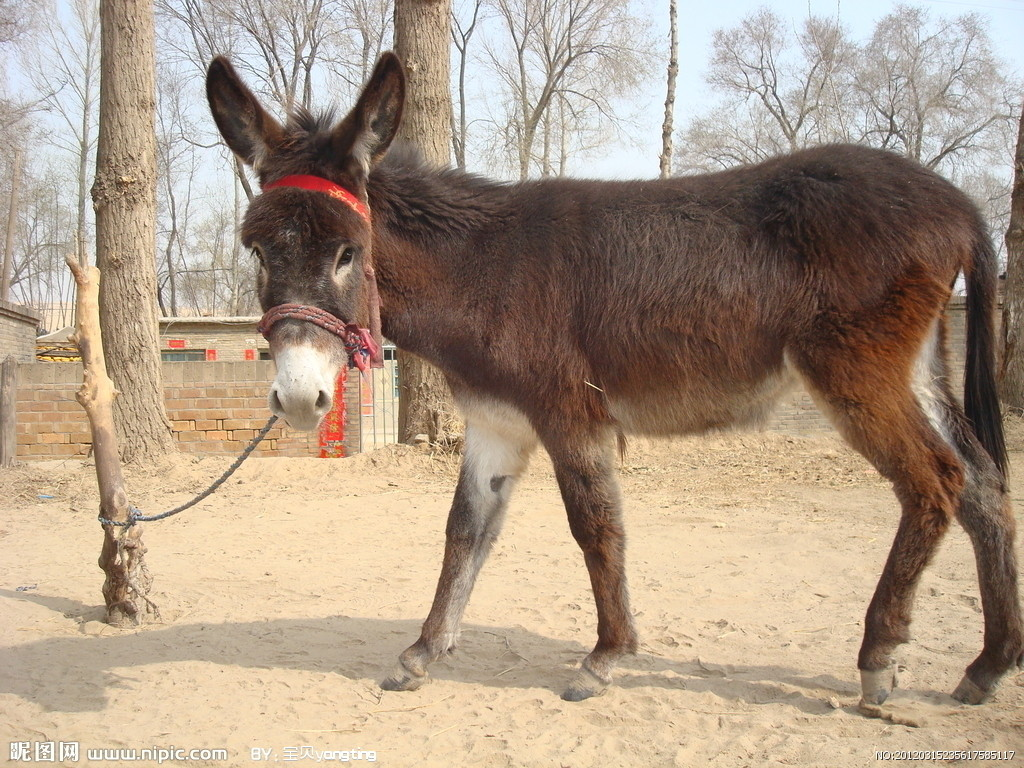background: (200, 43, 1024, 715)
